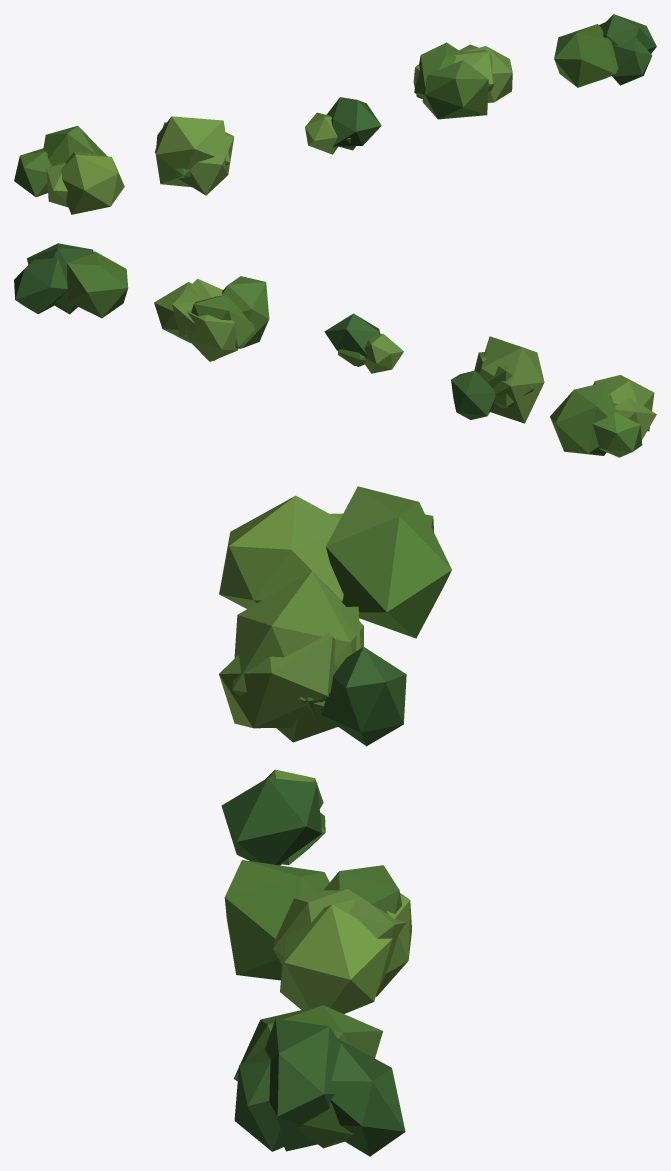
The model's file is ranvora_v2_bush.glb.
3 renders of one model, top to bottom at view 1: azimuth 30°, elevation 25°; view 2: azimuth 150°, elevation 25°; view 3: azimuth 270°, elevation 25°, orthographic. The views are drawn at different scales.
Parts seen in each view (by area): view 1: bush_A_mesh, bush_D_mesh, bush_E_mesh, bush_B_mesh, bush_C_mesh; view 2: bush_D_mesh, bush_A_mesh, bush_E_mesh, bush_B_mesh, bush_C_mesh; view 3: bush_D_mesh, bush_A_mesh, bush_B_mesh, bush_E_mesh, bush_C_mesh.
Part boxes in pixels (bbox=[...]): bush_A_mesh: bbox=[14, 125, 124, 214]; bush_D_mesh: bbox=[413, 42, 512, 119]; bush_E_mesh: bbox=[554, 14, 656, 87]; bush_B_mesh: bbox=[154, 116, 234, 195]; bush_C_mesh: bbox=[305, 97, 381, 154]; bush_D_mesh: bbox=[154, 276, 269, 361]; bush_A_mesh: bbox=[550, 375, 656, 457]; bush_E_mesh: bbox=[14, 243, 128, 318]; bush_B_mesh: bbox=[451, 336, 544, 423]; bush_C_mesh: bbox=[324, 313, 403, 373]; bush_D_mesh: bbox=[224, 860, 411, 1013]; bush_A_mesh: bbox=[219, 486, 451, 638]; bush_B_mesh: bbox=[219, 571, 406, 746]; bush_E_mesh: bbox=[233, 1005, 405, 1156]; bush_C_mesh: bbox=[221, 769, 325, 865].
Size of the model in its own units: 11.65 by 1.34 by 1.92.
